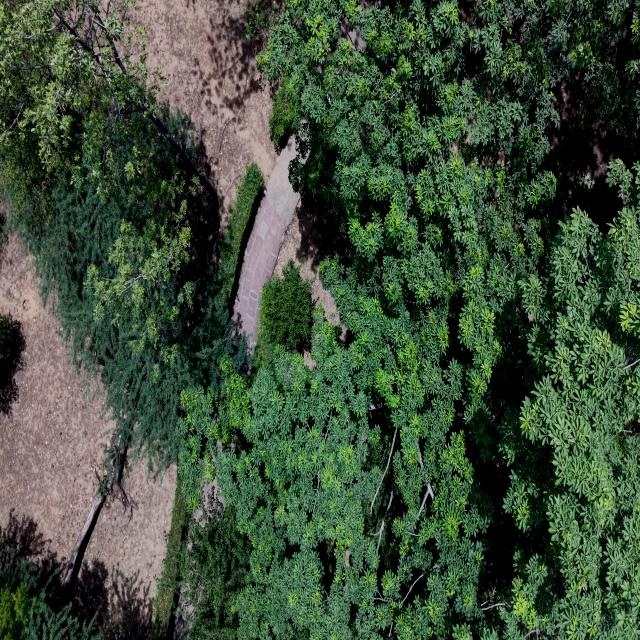DRY_AREA: (130, 0, 340, 348), (0, 235, 112, 570), (0, 235, 112, 564), (129, 0, 276, 222), (232, 136, 344, 352), (233, 136, 339, 352), (77, 464, 176, 639), (236, 206, 347, 344), (550, 76, 627, 228), (551, 80, 619, 224), (274, 193, 347, 324), (274, 205, 346, 337), (274, 206, 344, 324)
PATHWAYS: (233, 136, 299, 352)
VEGETATION_TREE: (0, 0, 639, 639), (185, 0, 639, 639), (0, 1, 262, 637), (0, 1, 262, 611), (0, 1, 244, 469), (16, 110, 234, 468), (504, 160, 639, 637), (0, 1, 156, 210), (0, 445, 136, 639), (153, 476, 250, 639), (179, 342, 245, 511), (0, 547, 103, 639), (183, 509, 251, 639), (219, 162, 263, 295), (152, 474, 187, 639), (256, 262, 313, 360), (18, 589, 108, 639), (0, 314, 24, 416), (243, 0, 284, 39), (0, 583, 28, 639), (243, 0, 283, 39), (270, 89, 296, 147), (0, 315, 11, 366)
